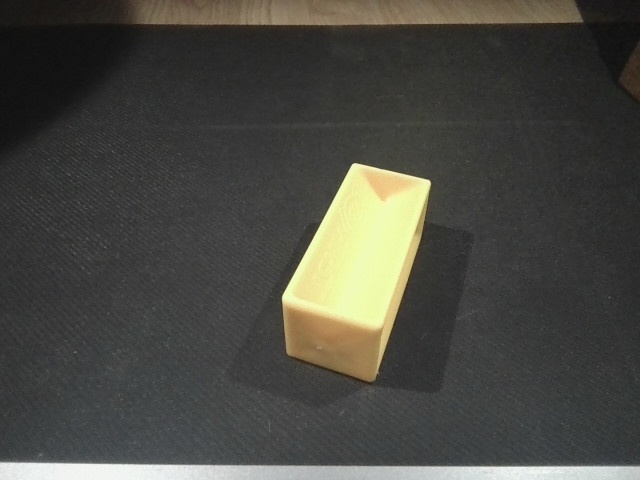YellowSample: (277, 160, 441, 394)
